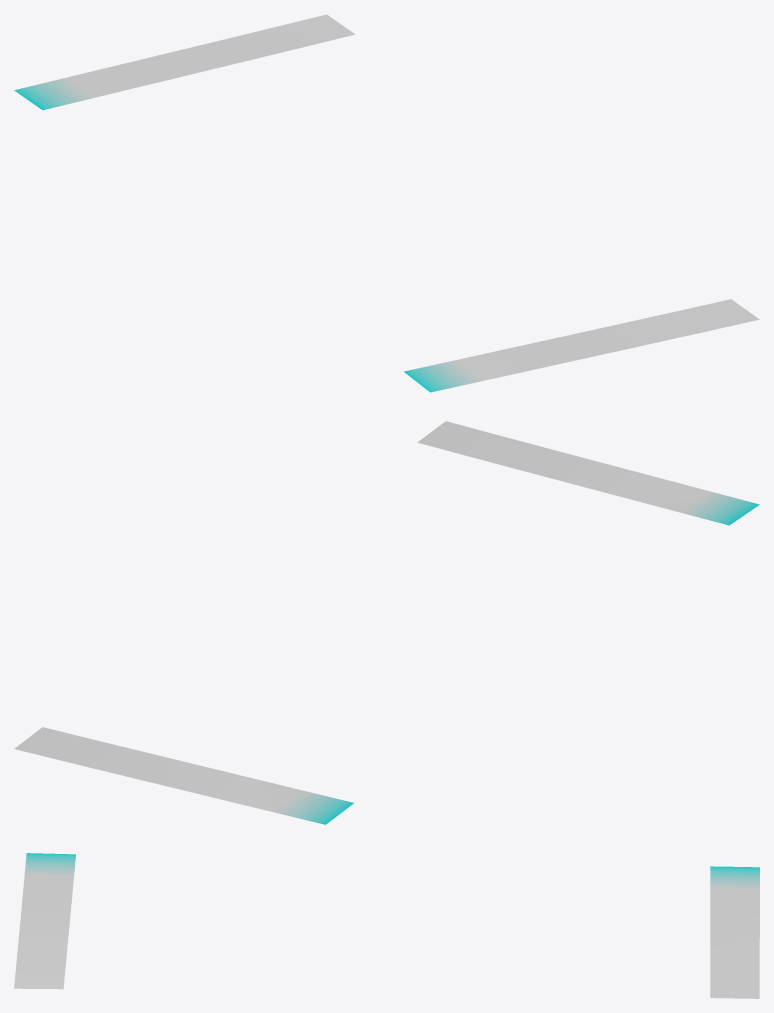
The picture shows the model from 3 angles, top to bottom: view 1: azimuth 30°, elevation 25°; view 2: azimuth 150°, elevation 25°; view 3: azimuth 270°, elevation 25°; orthographic projection. The views are drawn at different scales.
Visible parts, largest first — view 1: SpaceCenter_Long3_GenerateRoad_Asphalt_PCGMesh_Decal_Mesh_x9; view 2: SpaceCenter_Long3_GenerateRoad_Asphalt_PCGMesh_Decal_Mesh_x9; view 3: SpaceCenter_Long3_GenerateRoad_Asphalt_PCGMesh_Decal_Mesh_x9.
Part boxes in pixels (x1,y1,x2,y2): SpaceCenter_Long3_GenerateRoad_Asphalt_PCGMesh_Decal_Mesh_x9: (14,14,759,392); SpaceCenter_Long3_GenerateRoad_Asphalt_PCGMesh_Decal_Mesh_x9: (14,421,759,824); SpaceCenter_Long3_GenerateRoad_Asphalt_PCGMesh_Decal_Mesh_x9: (14,853,759,998).
Size of the model in its own units: 542 by 233 by 8.43.
